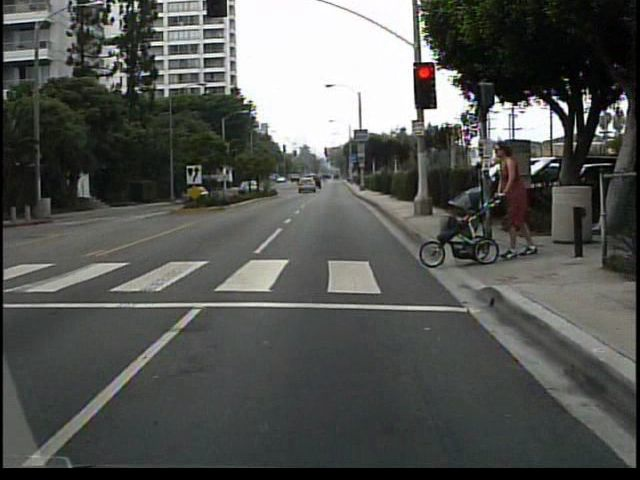person: (489, 142, 548, 263)
